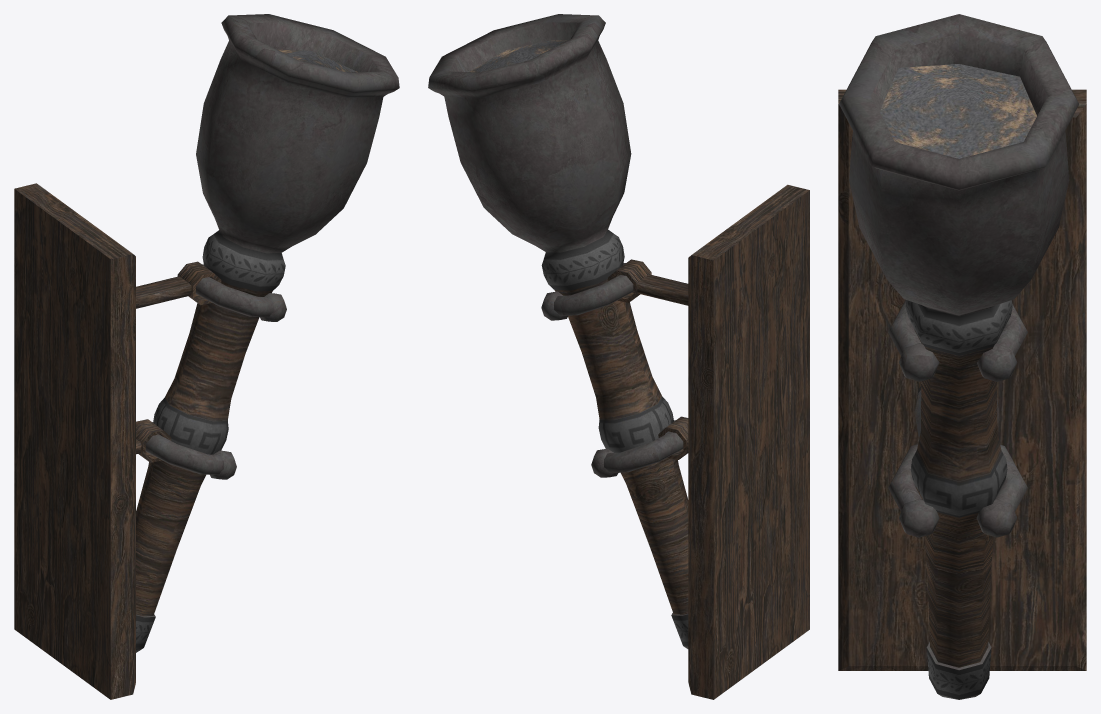
File: GameFactory_FireTourch_Pack.fbx
The picture shows the model from 3 angles, left to right: view 1: azimuth 30°, elevation 25°; view 2: azimuth 150°, elevation 25°; view 3: azimuth 270°, elevation 25°; orthographic projection. The views are drawn at different scales.
Visible parts, largest first — view 1: GameFactory_FireTourch_Holder, GameFactory_FireTourch; view 2: GameFactory_FireTourch_Holder, GameFactory_FireTourch; view 3: GameFactory_FireTourch, GameFactory_FireTourch_Holder.
Part boxes in pixels (box(x1,y1,x2,y2)): GameFactory_FireTourch_Holder: box(14, 183, 286, 699); GameFactory_FireTourch: box(136, 14, 399, 652); GameFactory_FireTourch_Holder: box(541, 184, 809, 699); GameFactory_FireTourch: box(428, 14, 688, 648); GameFactory_FireTourch: box(839, 14, 1079, 699); GameFactory_FireTourch_Holder: box(838, 89, 1086, 670).
Size of the model in its own units: 25.73 by 44.66 by 13.32.
